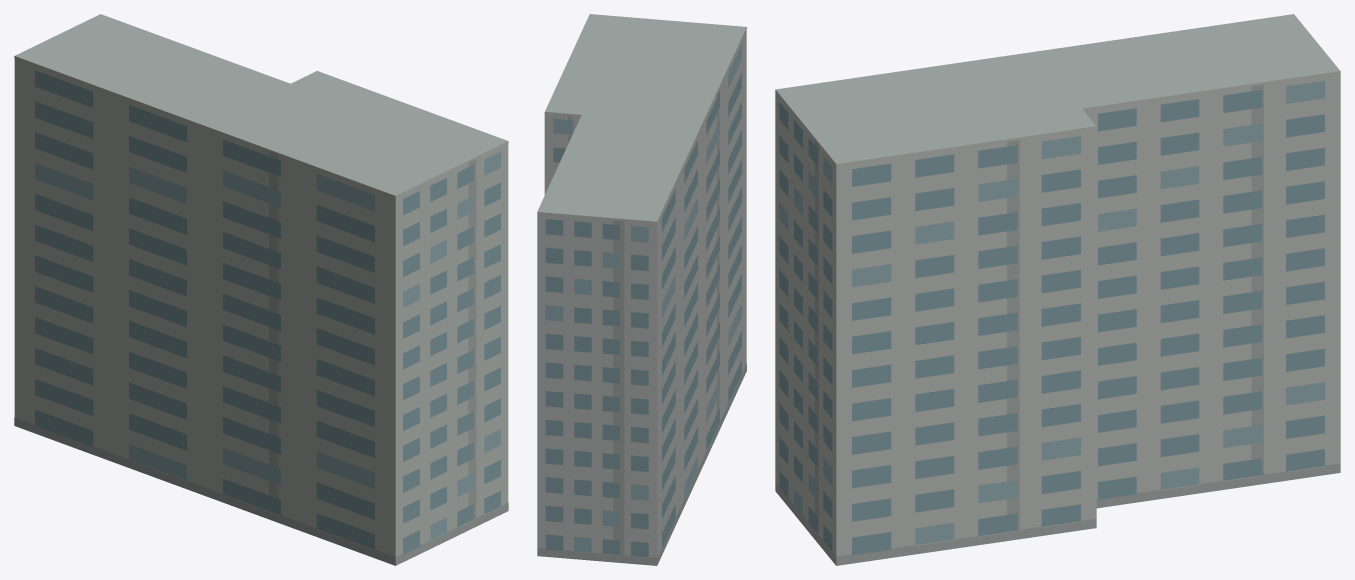
File: residential-93a6b23b-4ec6-4cca-81c6-802bd94fd045.glb
3 renders of one model, left to right at view 1: azimuth 30°, elevation 25°; view 2: azimuth 150°, elevation 25°; view 3: azimuth 270°, elevation 25°, orthographic. The views are drawn at different scales.
Visible parts, largest first — view 1: residential-93a6b23b-4ec6-4cca-81c6-802bd94fd045.tmp; view 2: residential-93a6b23b-4ec6-4cca-81c6-802bd94fd045.tmp; view 3: residential-93a6b23b-4ec6-4cca-81c6-802bd94fd045.tmp.
Part boxes in pixels (x1=…): residential-93a6b23b-4ec6-4cca-81c6-802bd94fd045.tmp: x1=14, y1=14, x2=508, y2=565; residential-93a6b23b-4ec6-4cca-81c6-802bd94fd045.tmp: x1=537, y1=14, x2=746, y2=565; residential-93a6b23b-4ec6-4cca-81c6-802bd94fd045.tmp: x1=775, y1=14, x2=1340, y2=565.
Bounding box in the file's own units: 32.06 × 40 × 50.98.
